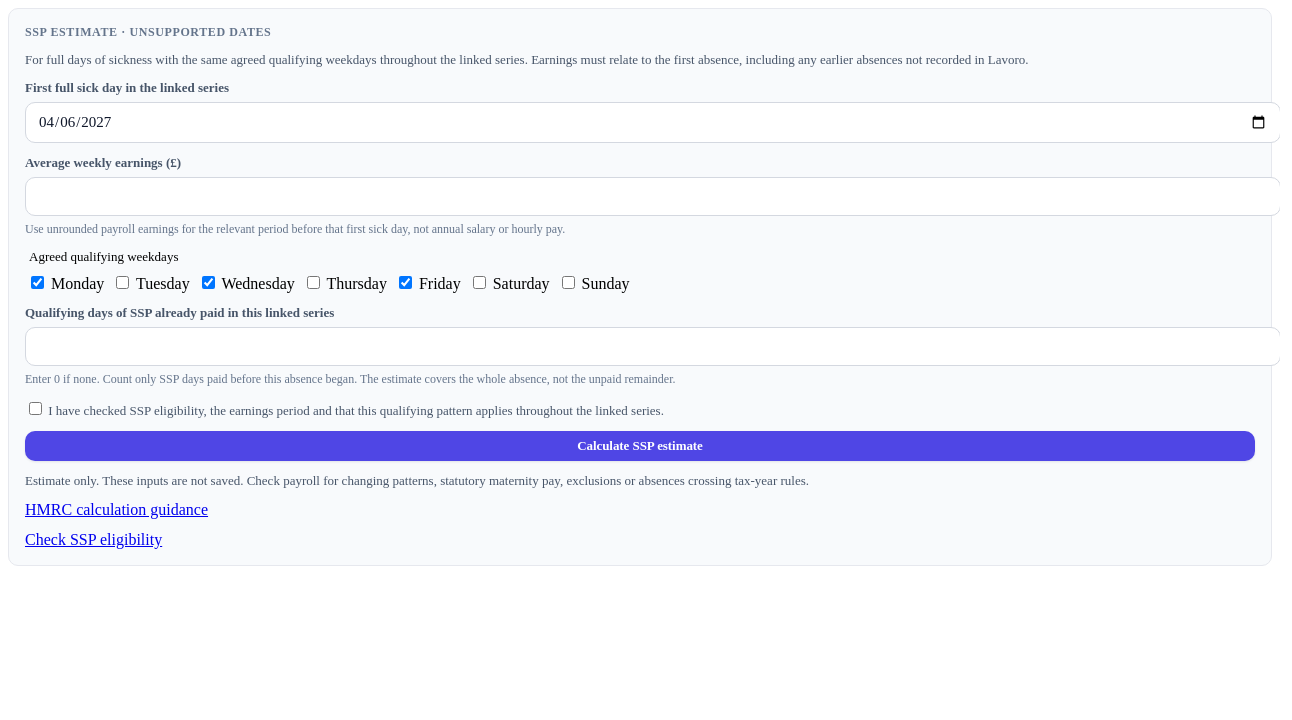
Test: labels unsupported future dates and explains the missing policy
Expected: the text "SSP estimate · Unsupported dates" is shown, [25, 25, 271, 40]
Type "100" into the number field labelled "Average weekly earnings (£)".
click(652, 196); type("100")  # box [25, 177, 1280, 216]
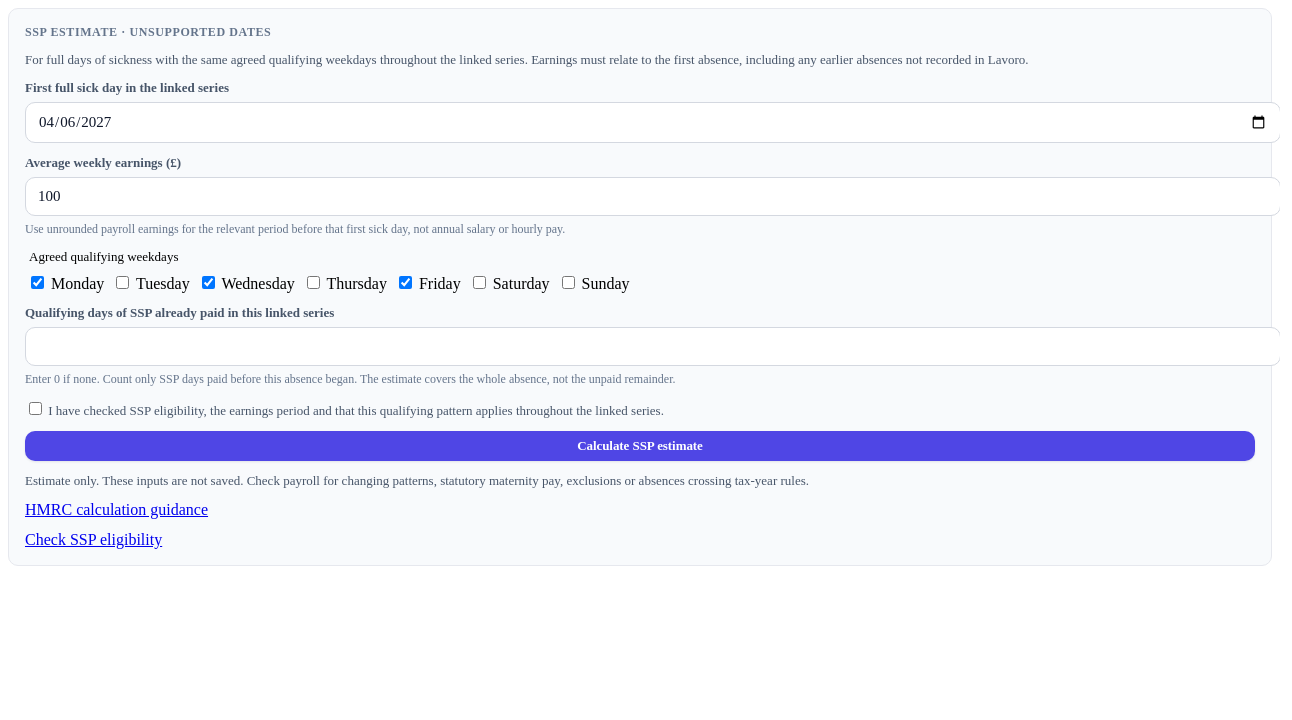
Type "0" into the number field labelled "Qualifying days of SSP already paid in this linked series".
click(652, 346); type("0")  # box [25, 327, 1280, 366]
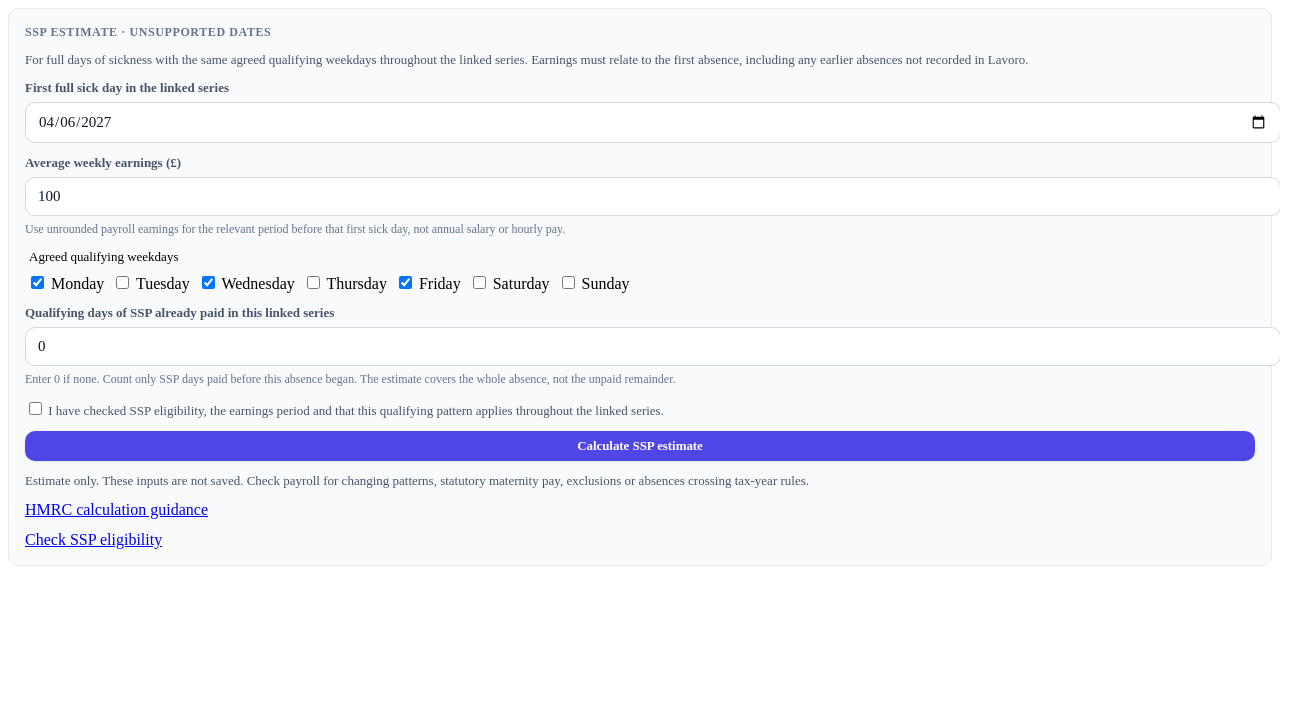
Click the checkbox labelled "I have checked SSP eligibility".
click(36, 408)  # box [29, 402, 42, 415]
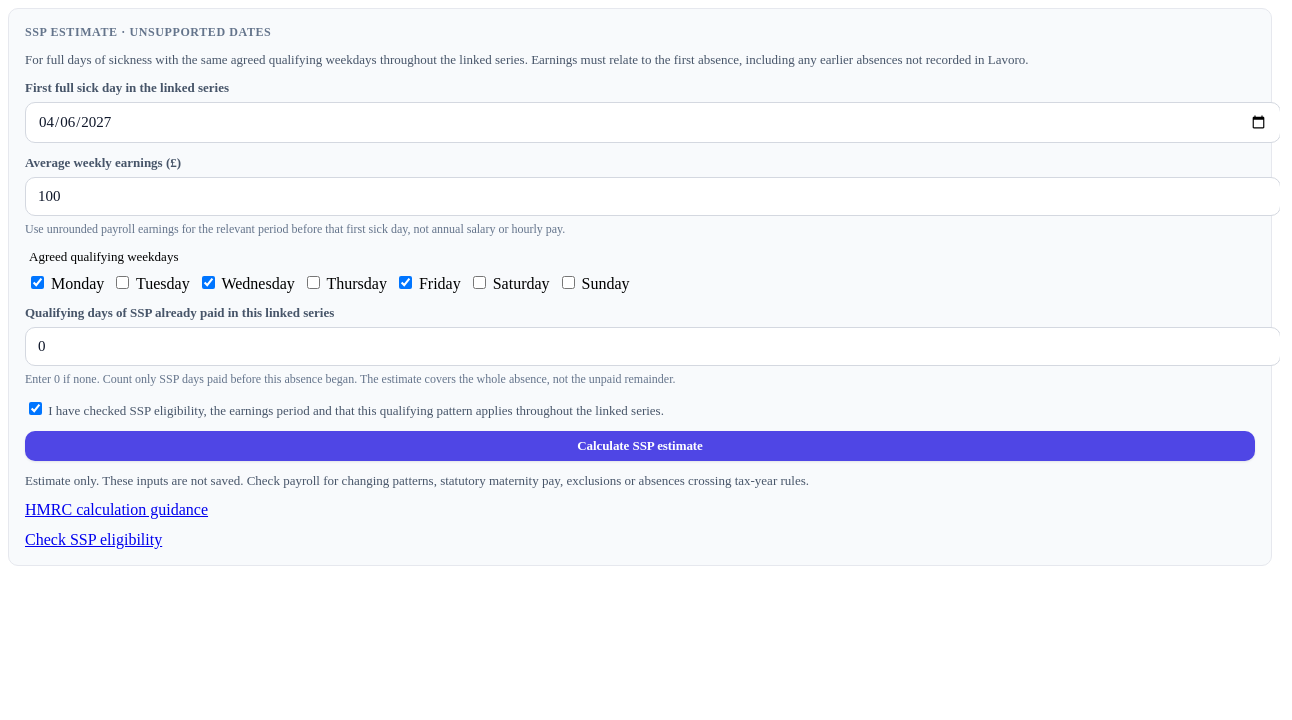
Click the button "Calculate SSP estimate".
click(640, 446)  # box [25, 431, 1255, 461]
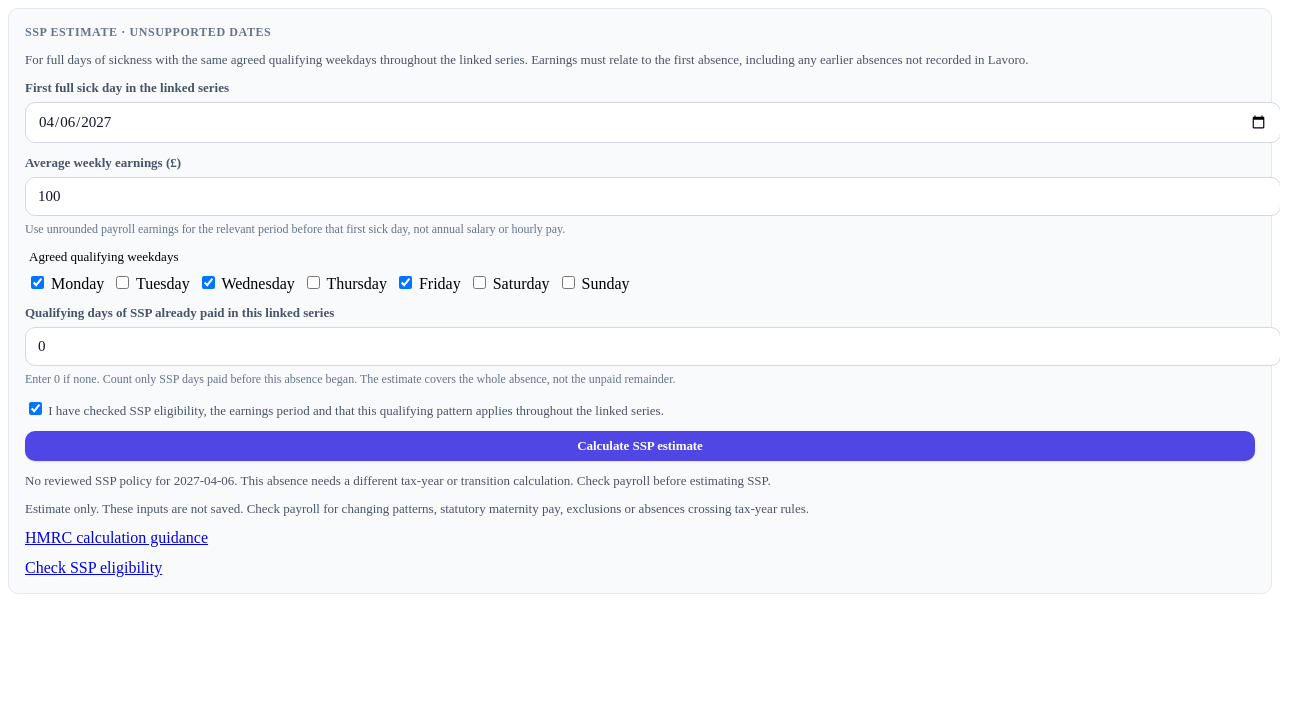
Expected: the message shows "No reviewed SSP policy for 2027-04-06", [25, 473, 771, 488]
